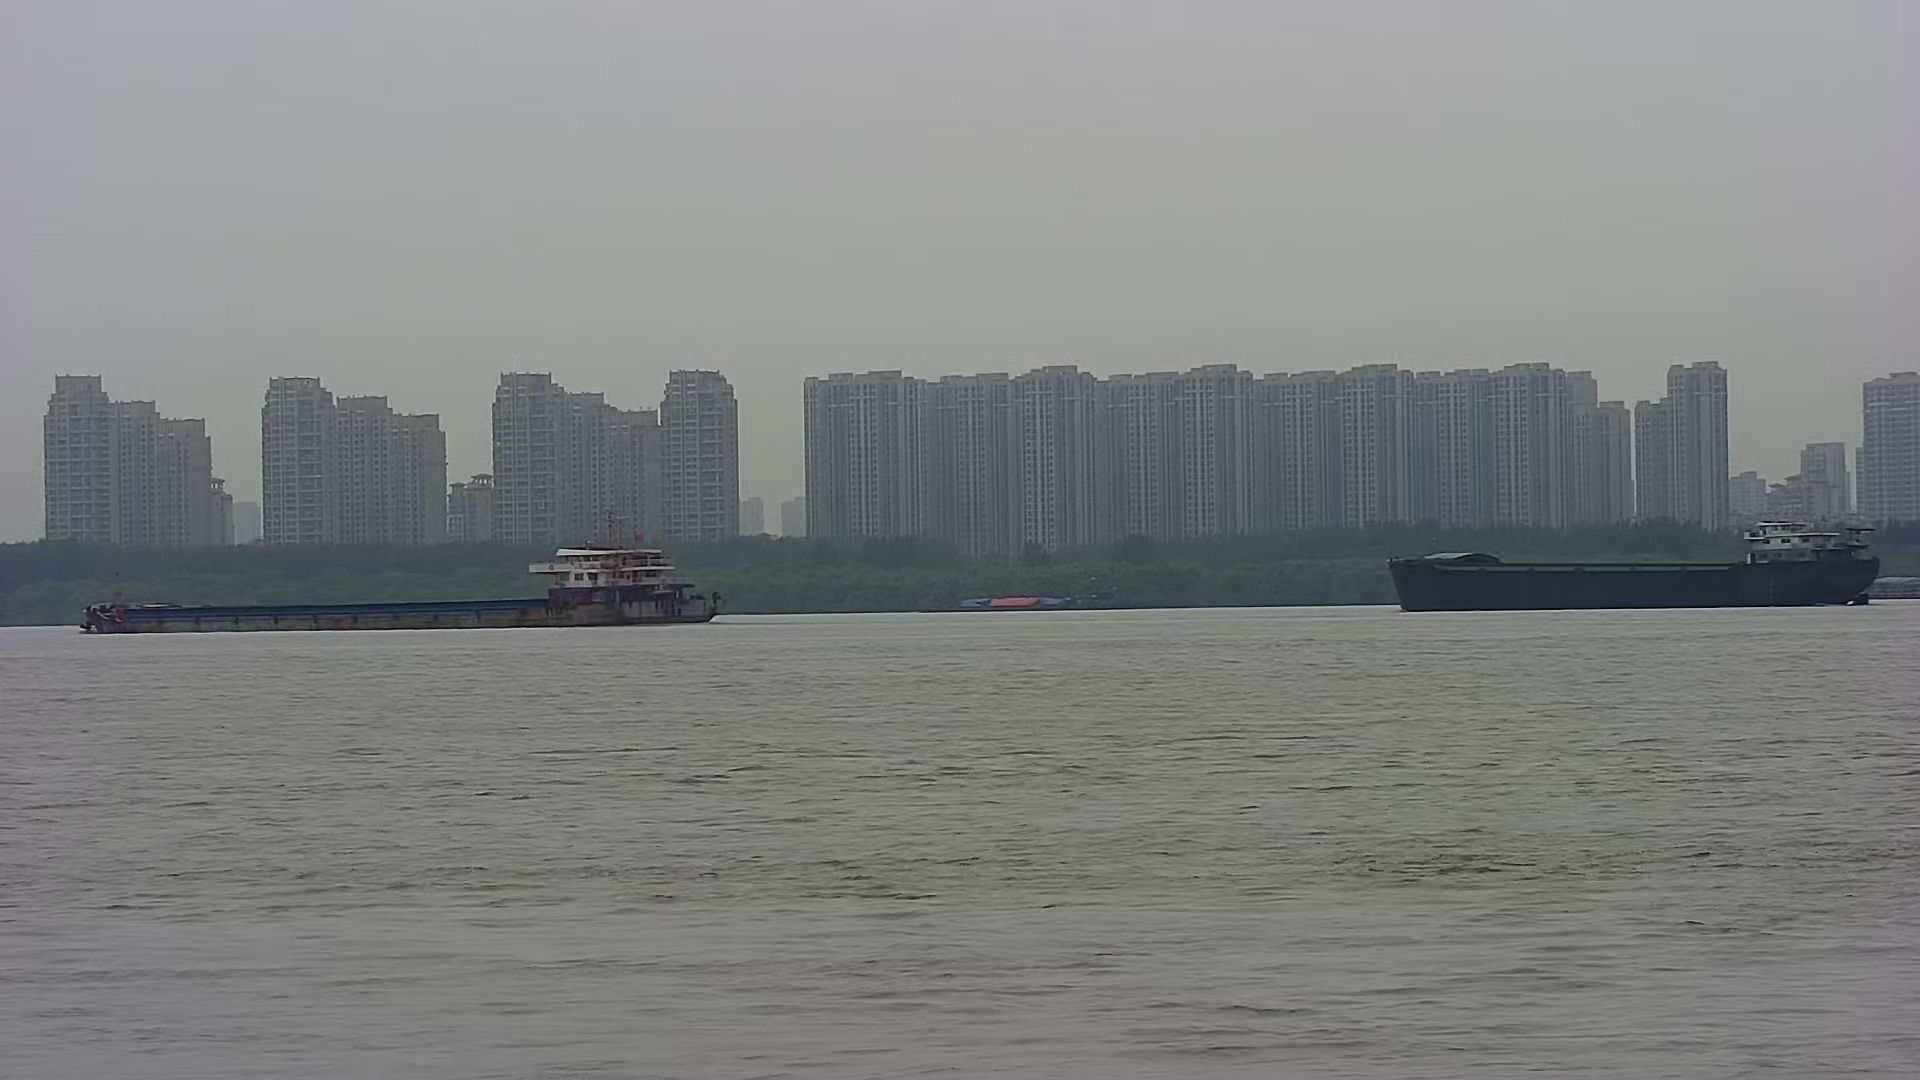ship: (82, 509, 727, 637), (1379, 508, 1887, 611), (953, 578, 1127, 611)
